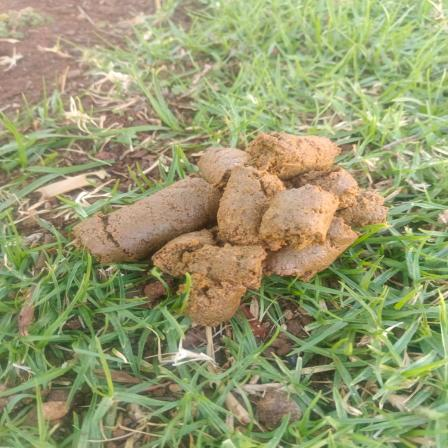dog-poop: (42, 122, 410, 327)
